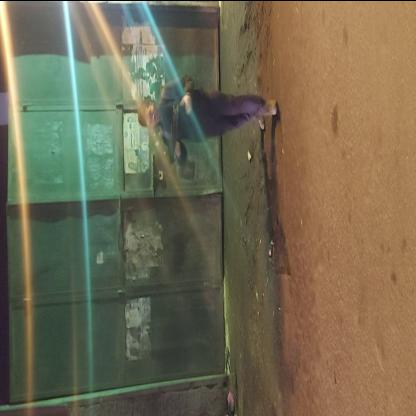long weapon: (162, 103, 188, 167)
